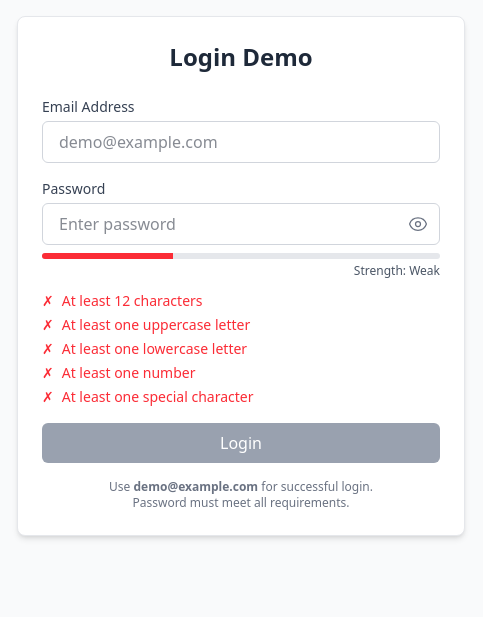
LoginDemo › shows error message with invalid credentials
In the field labelled "Email Address": (241, 142) [42,121,440,163], type "wrong@example.com"
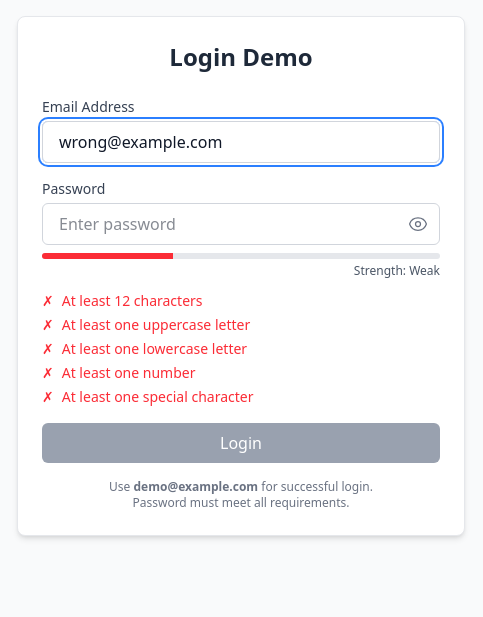
In the password field labelled "Enter password": (241, 224) [42,203,440,245], type "ValidPass123!"
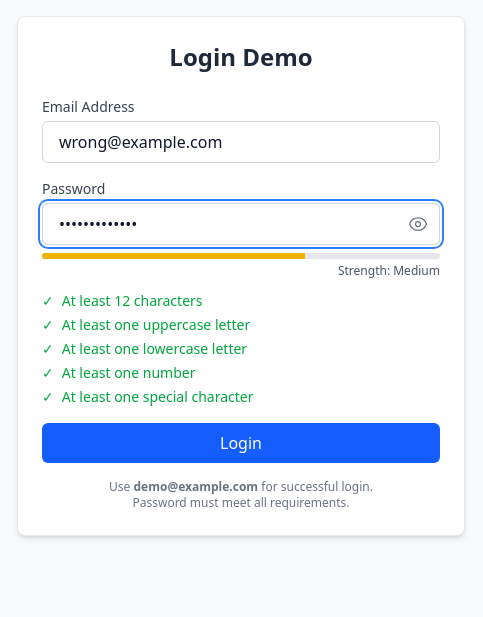
Click the button "Login": (241, 443) [42,423,440,463]
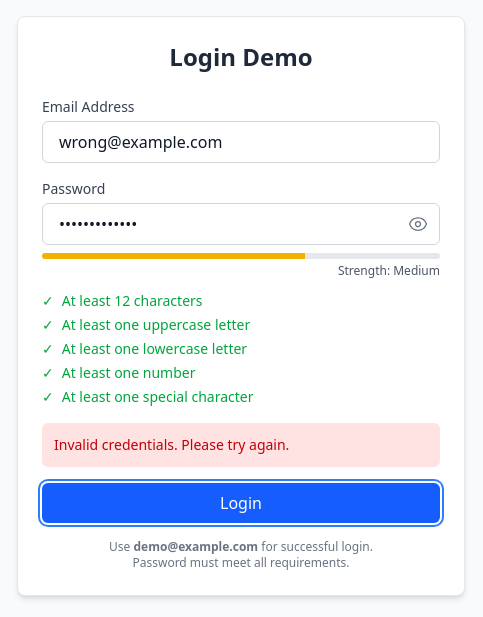
Result: the text "Invalid credentials. Please try again." is shown at [42,423,440,467]
